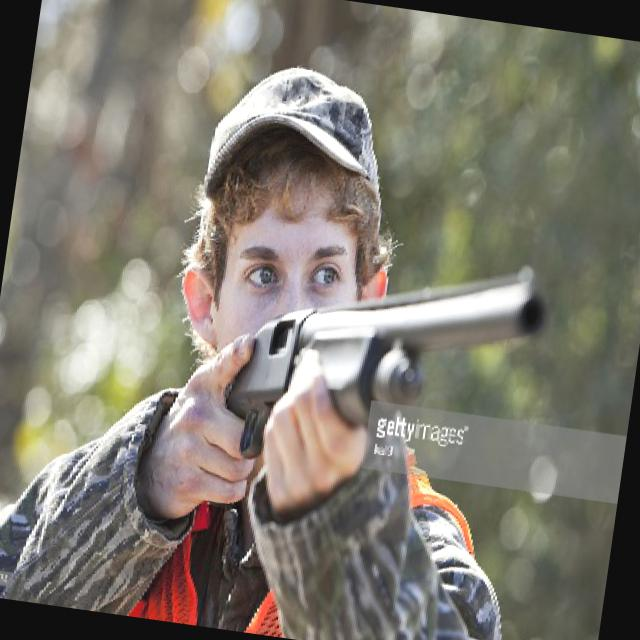long weapon: (185, 224, 558, 505)
